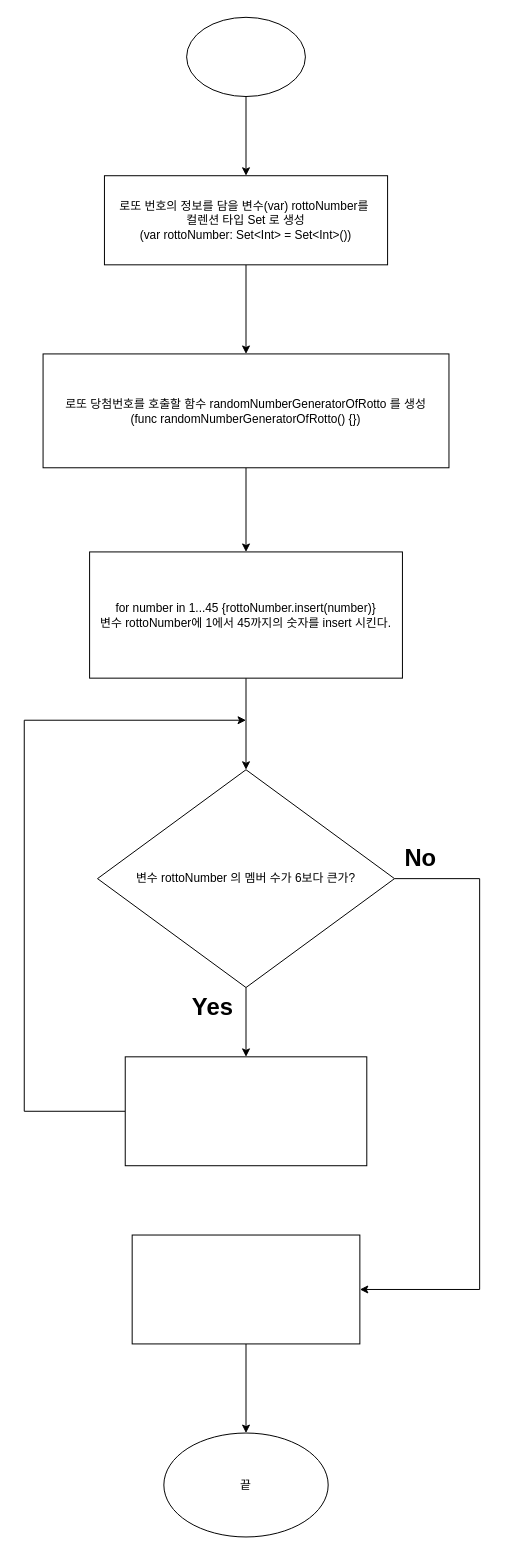
This 505x1554 diagram has some shape labels left out. Here are the shapes that lost their labels. From the top down, the centre of each, then its label:
At pixel 245 56: "시작".
At pixel 245 1111: "변수 rottoNumber 의 첫번째 멤버를 제거한다. (rottoNumber.removeFirst())".
At pixel 245 1289: "변수 rottoNumber 를 print 한다. (print(rottoNumber))".
